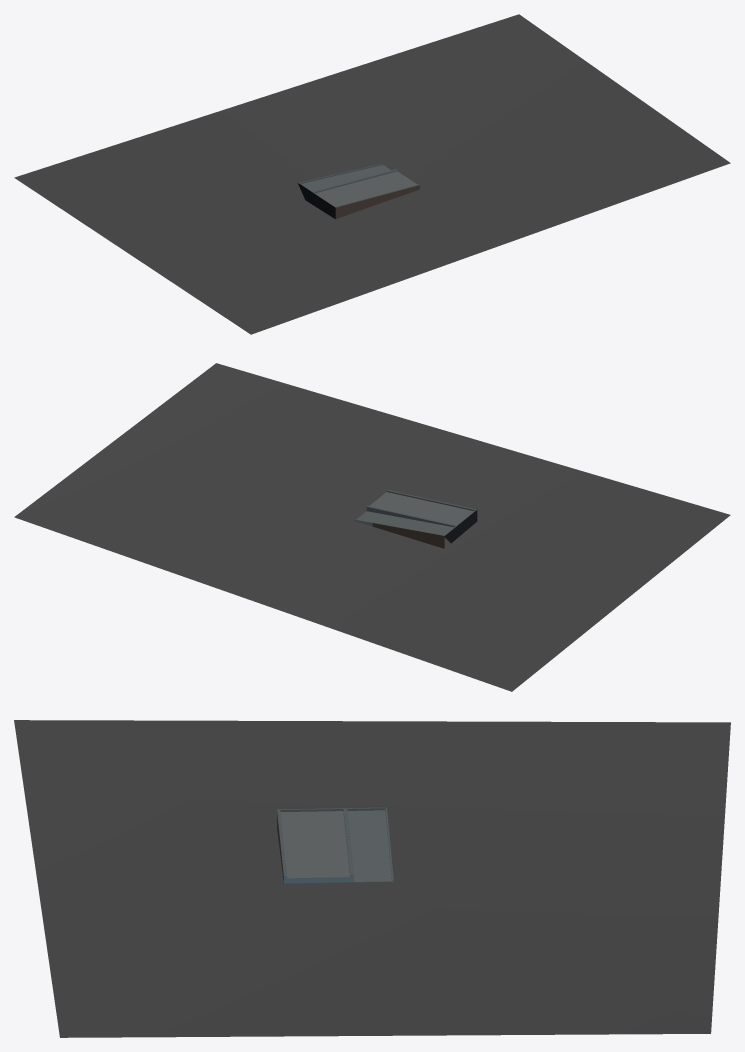
File: 138-market-street.glb
3 renders of one model, top to bottom at view 1: azimuth 30°, elevation 25°; view 2: azimuth 150°, elevation 25°; view 3: azimuth 270°, elevation 25°, orthographic. The views are drawn at different scales.
Visible parts, largest first — view 1: LOD0; view 2: LOD0; view 3: LOD0.
Part boxes in pixels (box(x1,y1,x2,y2)): LOD0: box(14, 14, 730, 334); LOD0: box(14, 363, 730, 691); LOD0: box(14, 720, 730, 1037).
Size of what is drawn, in the model's own units: 169 by 14.9 by 131.
Materials: 2 (2 with a texture image).
